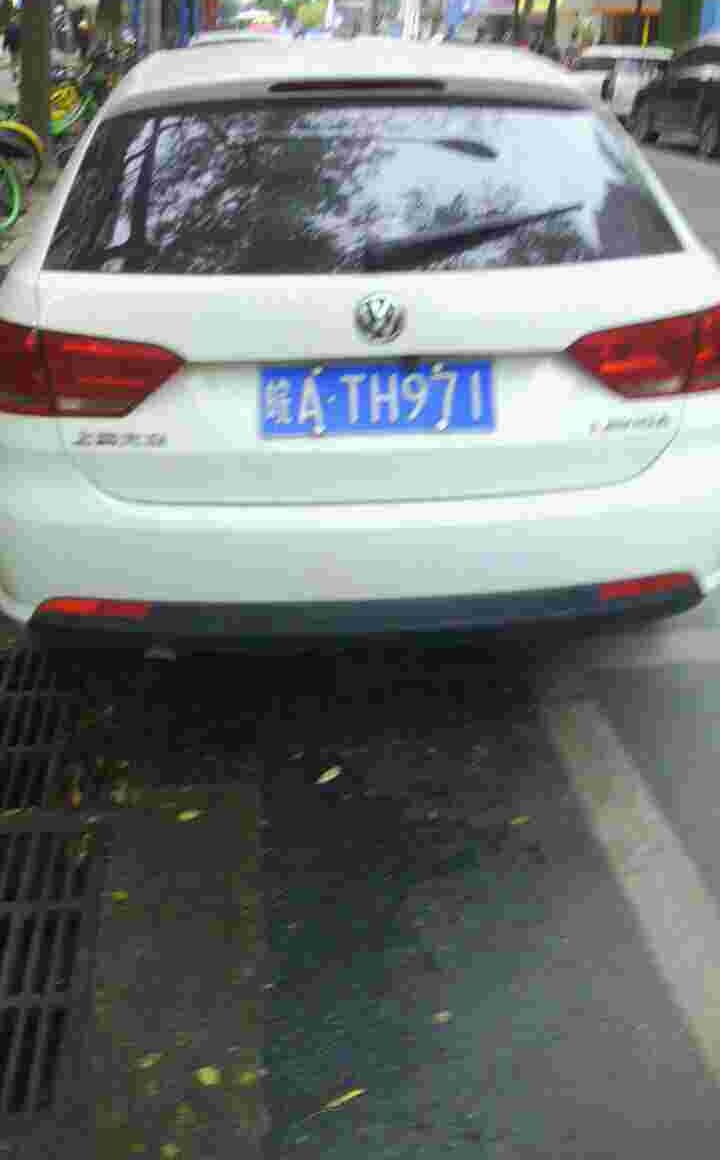license_plate: (260, 364, 505, 432)
